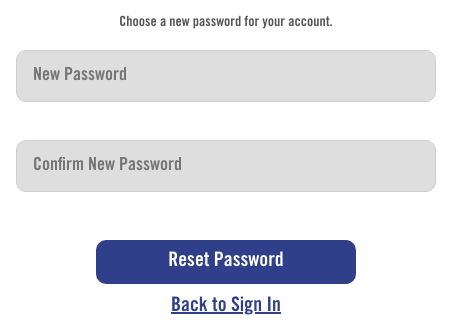
Test case: shows error when new password is empty
Click the button "Reset Password": {"x": 226, "y": 262} [96,240,356,284]
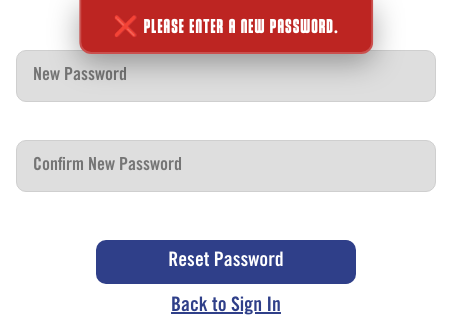
Result: the text "❌ Please enter a new password." is shown at [79,0,373,54]
